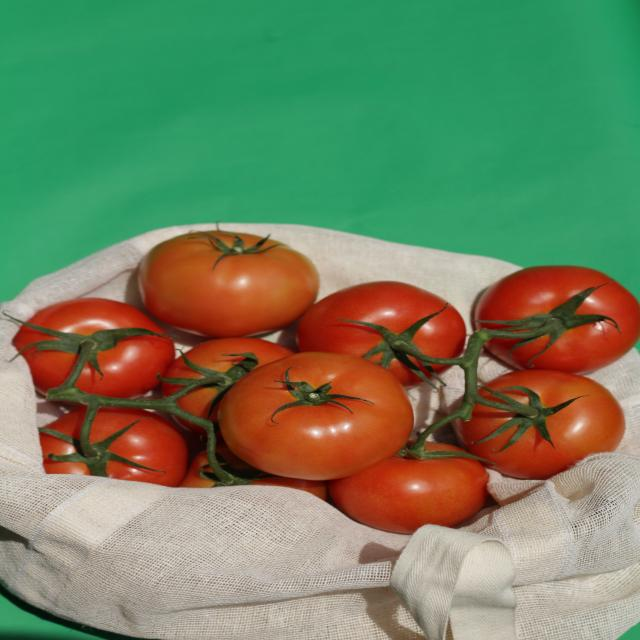Tomato: (216, 353, 422, 477), (289, 278, 480, 386), (478, 259, 640, 368), (456, 376, 616, 469), (146, 232, 306, 323)
